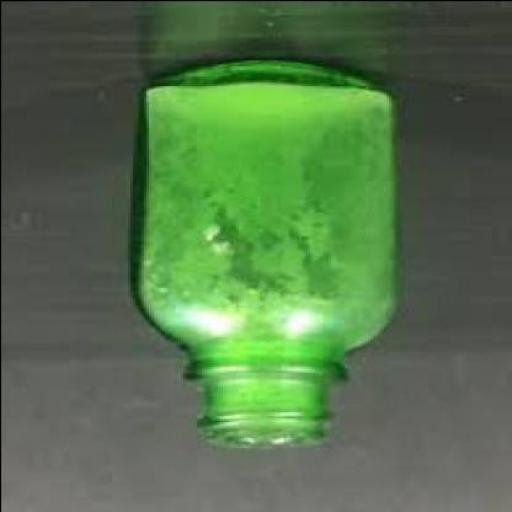glass: (132, 57, 404, 449)
